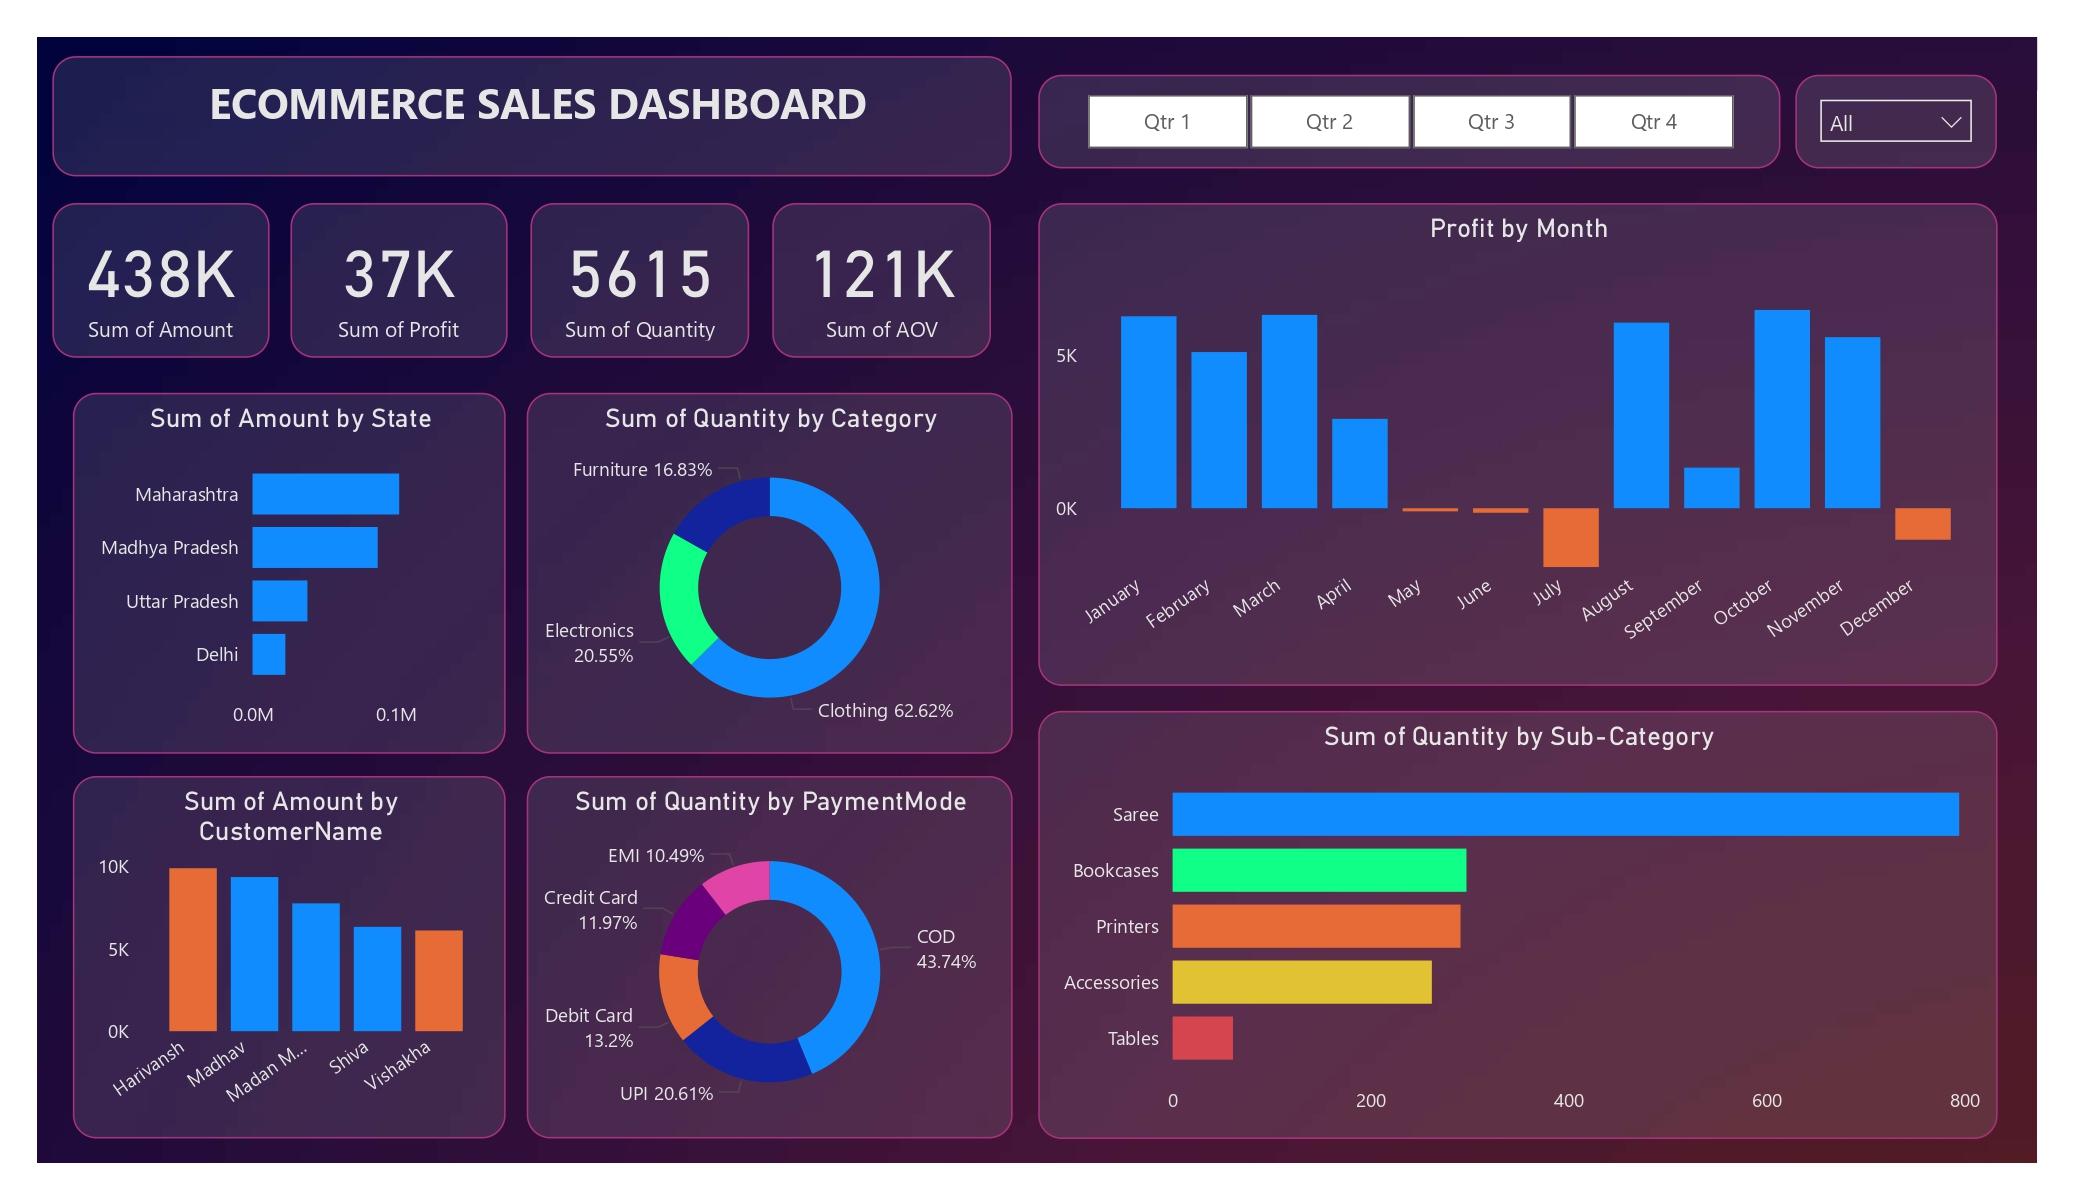

The dashboard page shown, as its layout file describes it:
{"tool":"powerbi","page":{"name":"Page 1","canvas":[1280,720],"ordinal":0},"visuals":[{"type":"textbox","box":[9.5,11.9,614.3,77.4],"z":0},{"type":"columnChart","title":"Profit by Month","fields":{"Y":["Sum(Details.Profit)"],"Category":["Orders.Order Date.Variation.Date Hierarchy.Month"]},"box":[640,105.7,613.6,308.6],"z":1000},{"type":"barChart","fields":{"Y":["Sum(Details.Quantity)"],"Category":["Details.Sub-Category"]},"box":[640,431.1,613.6,273.8],"z":2000},{"type":"donutChart","fields":{"Category":["Details.Category"],"Y":["Sum(Details.Quantity)"]},"box":[313.4,226.9,311,230.5],"z":3000},{"type":"donutChart","fields":{"Category":["Details.PaymentMode"],"Y":["Sum(Details.Quantity)"]},"box":[313.4,473.1,311,231.7],"z":4000},{"type":"clusteredBarChart","fields":{"Category":["Orders.State"],"Y":["Sum(Details.Amount)"]},"box":[22.8,226.9,277.4,230.5],"z":5000},{"type":"columnChart","fields":{"Category":["Orders.CustomerName"],"Y":["Sum(Details.Amount)"]},"box":[22.8,473.1,277.4,231.7],"z":6000},{"type":"card","fields":{"Values":["Sum(Details.Amount)"]},"box":[9.6,105.7,138.6,98.8],"z":7000},{"type":"card","fields":{"Values":["Sum(Details.Profit)"]},"box":[161.9,105.7,138.6,98.8],"z":8000},{"type":"card","fields":{"Values":["Sum(Details.Quantity)"]},"box":[315.6,105.7,140,98.8],"z":9000},{"type":"card","fields":{"Values":["Sum(Details.AOV)"]},"box":[470.7,105.7,140,98.8],"z":10000},{"type":"slicer","fields":{"Values":["Orders.Order Date.Variation.Date Hierarchy.Quarter"]},"box":[640.5,23.8,475,59.5],"z":11000},{"type":"slicer","fields":{"Values":["Orders.State"]},"box":[1125,23.8,128.6,59.5],"z":12000}]}

Visuals, with their boxes on the page's 1280x720 design canvas (x1, y1, x2, y2). These are canvas units, not pixel positions in the 2075x1200 screenshot, which may show the page scaled, cropped or inside an application window:
textbox: 10,12,624,89
"Profit by Month" columnChart: 640,106,1254,414
barChart - Sum(Details.Quantity) x Details.Sub-Category: 640,431,1254,705
donutChart - Details.Category x Sum(Details.Quantity): 313,227,624,457
donutChart - Details.PaymentMode x Sum(Details.Quantity): 313,473,624,705
clusteredBarChart - Orders.State x Sum(Details.Amount): 23,227,300,457
columnChart - Orders.CustomerName x Sum(Details.Amount): 23,473,300,705
card - Sum(Details.Amount): 10,106,148,204
card - Sum(Details.Profit): 162,106,300,204
card - Sum(Details.Quantity): 316,106,456,204
card - Sum(Details.AOV): 471,106,611,204
slicer - Orders.Order Date.Variation.Date Hierarchy.Quarter: 640,24,1116,83
slicer - Orders.State: 1125,24,1254,83
